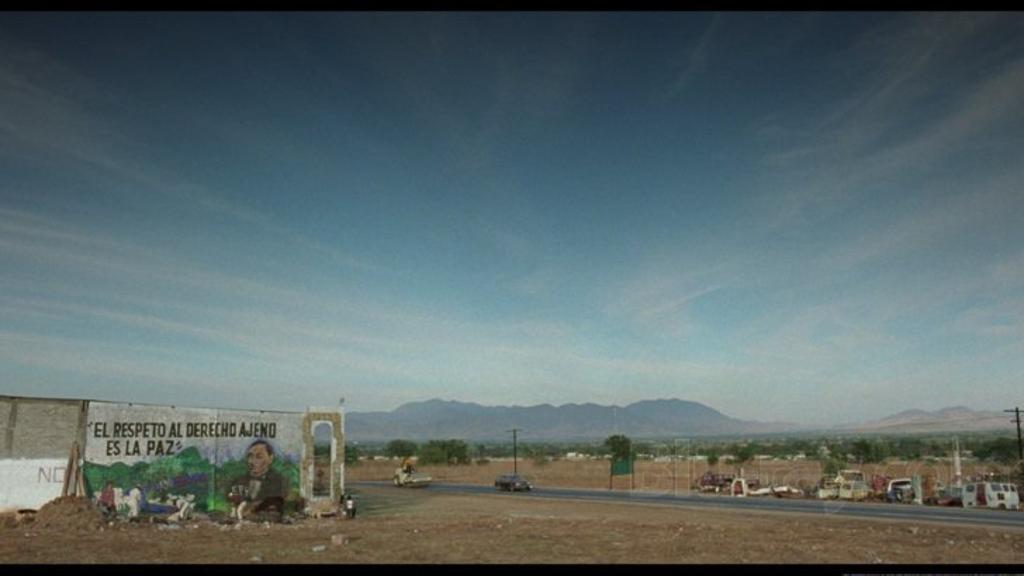face: (247, 447, 269, 472)
